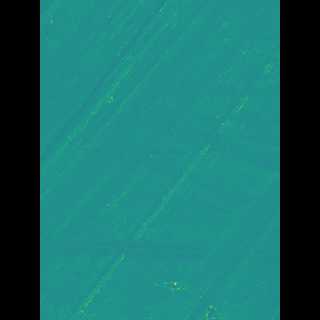Loch: (156, 166, 251, 320), (84, 232, 201, 261)
